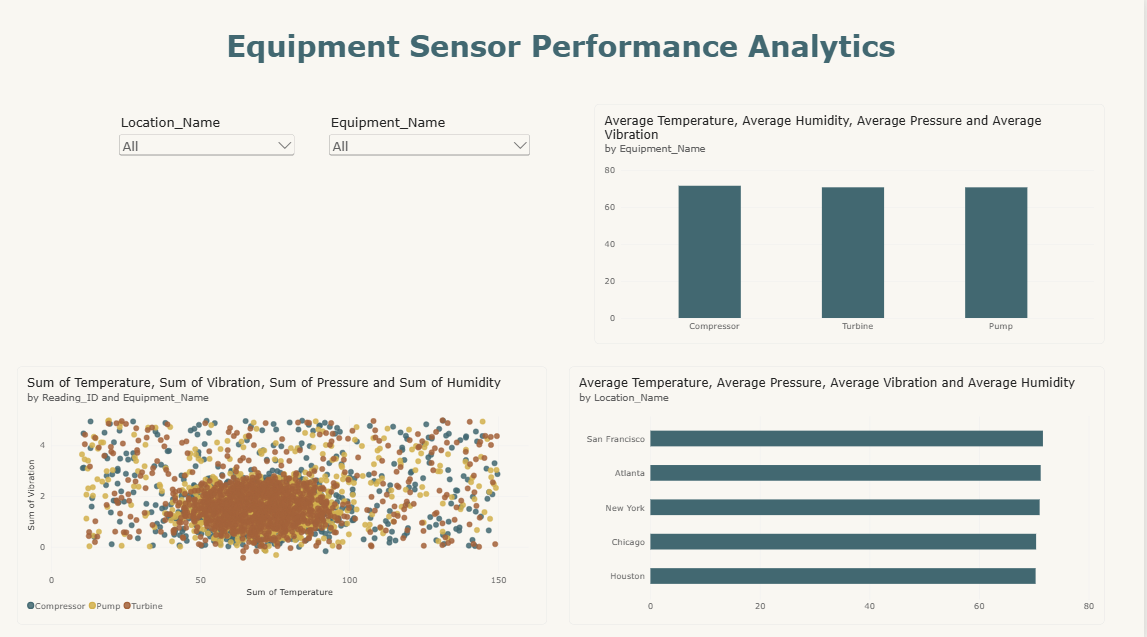

The page's visual inventory and layout, read from the dashboard file:
{"tool":"powerbi","page":{"name":"Sensor Analytics","canvas":[1920,1080],"ordinal":1},"visuals":[{"type":"clusteredColumnChart","fields":{"Category":["Dim_Equipment.Equipment_Name"],"Y":["_Measures.Average Temperature"]},"box":[1002.5,180,850,400],"z":0},{"type":"clusteredBarChart","fields":{"Category":["Dim_Location.Location_Name"],"Y":["_Measures.Average Temperature"]},"box":[960,617.5,892.5,430],"z":1},{"type":"scatterChart","fields":{"Category":["Fact_EquipmentAnomaly.Reading_ID"],"Series":["Dim_Equipment.Equipment_Name"],"X":["Sum(Fact_EquipmentAnomaly.Temperature)"],"Y":["Sum(Fact_EquipmentAnomaly.Vibration)"]},"box":[40,617.5,883.3,430],"z":2},{"type":"slicer","fields":{"Values":["Dim_Equipment.Equipment_Name"]},"box":[555,197.5,345,87.5],"z":3},{"type":"slicer","fields":{"Values":["Dim_Location.Location_Name"]},"box":[205,197.5,302.5,82.5],"z":4},{"type":"textbox","box":[40,37.5,1812.5,120],"z":5}]}

Visuals, with their boxes in screenshot pixels (x1, y1, x2, y2), scaled from the page's 1920x1080 canvas onto the 1147x637 screenshot:
clusteredColumnChart - Dim_Equipment.Equipment_Name x _Measures.Average Temperature: locate(599, 106, 1107, 342)
clusteredBarChart - Dim_Location.Location_Name x _Measures.Average Temperature: locate(574, 364, 1107, 618)
scatterChart - Fact_EquipmentAnomaly.Reading_ID x Dim_Equipment.Equipment_Name: locate(24, 364, 552, 618)
slicer - Dim_Equipment.Equipment_Name: locate(332, 116, 538, 168)
slicer - Dim_Location.Location_Name: locate(122, 116, 303, 165)
textbox: locate(24, 22, 1107, 93)
